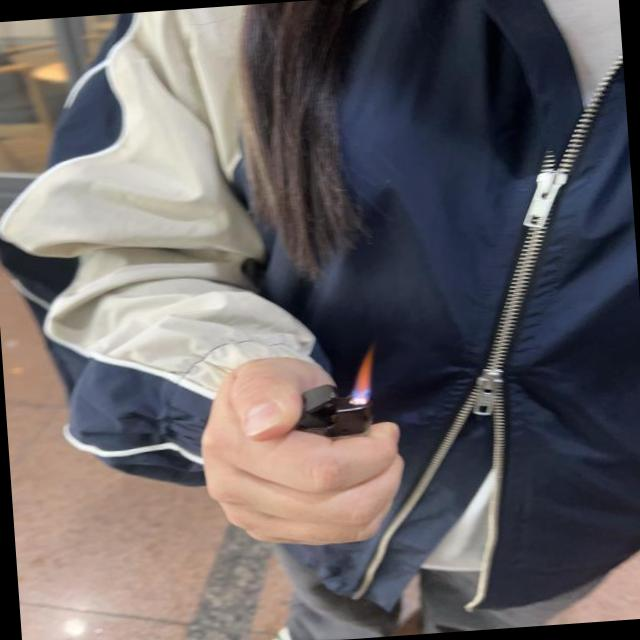Fire: (347, 348, 378, 398)
